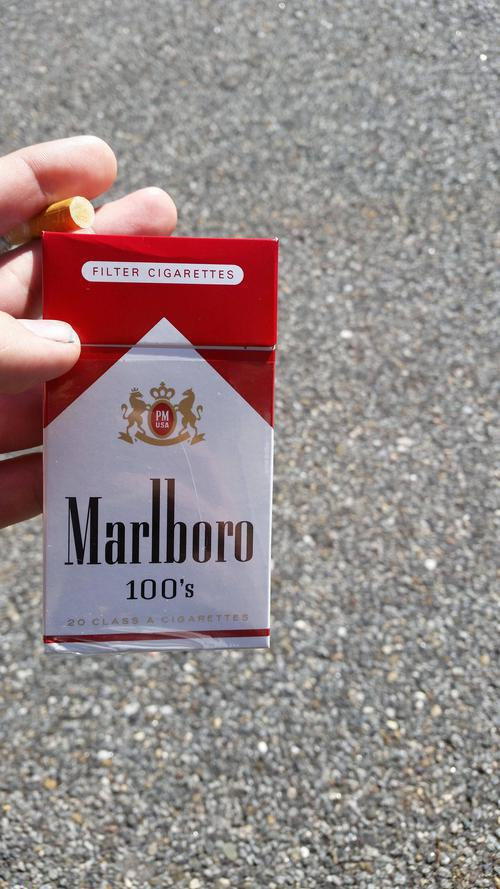marlboro: (49, 241, 269, 648)
